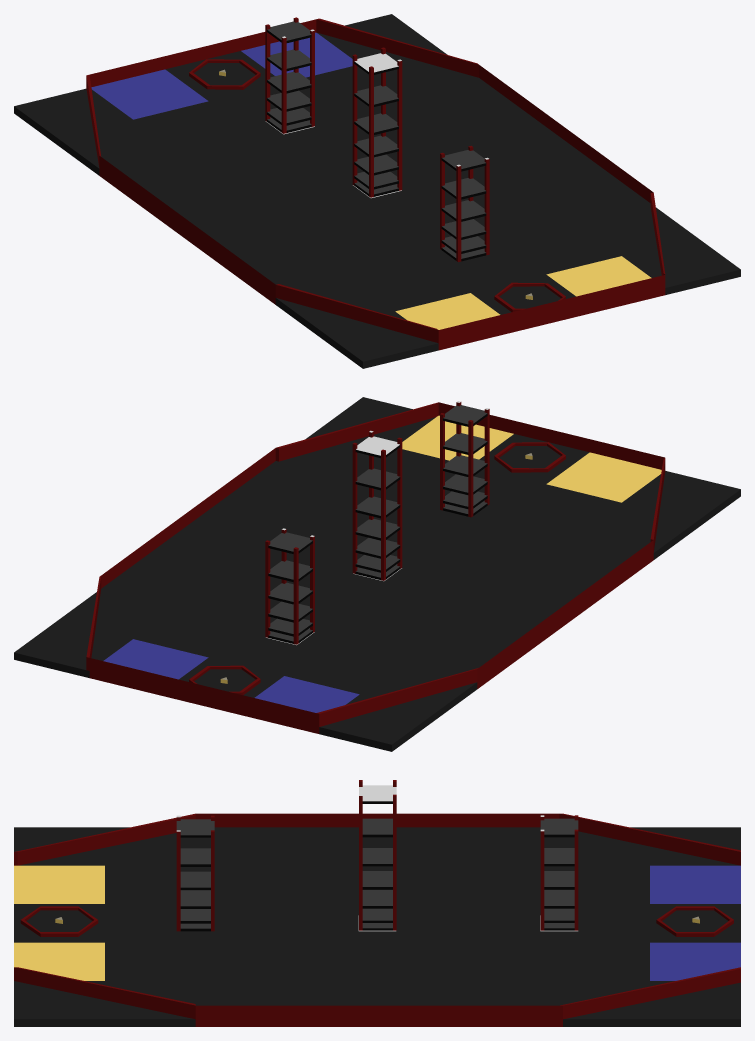
The model's file is avia-23-playing-field.glb.
3 renders of one model, top to bottom at view 1: azimuth 30°, elevation 25°; view 2: azimuth 150°, elevation 25°; view 3: azimuth 270°, elevation 25°, orthographic. The views are drawn at different scales.
Parts seen in each view (by area): view 1: Sketchup; view 2: Sketchup; view 3: Sketchup.
Part boxes in pixels (x1,y1,x2,y2): Sketchup: [14, 14, 740, 368]; Sketchup: [14, 397, 740, 751]; Sketchup: [14, 780, 740, 1026].
Bounding box in the file's own units: 6.1 × 2.11 × 9.75.
